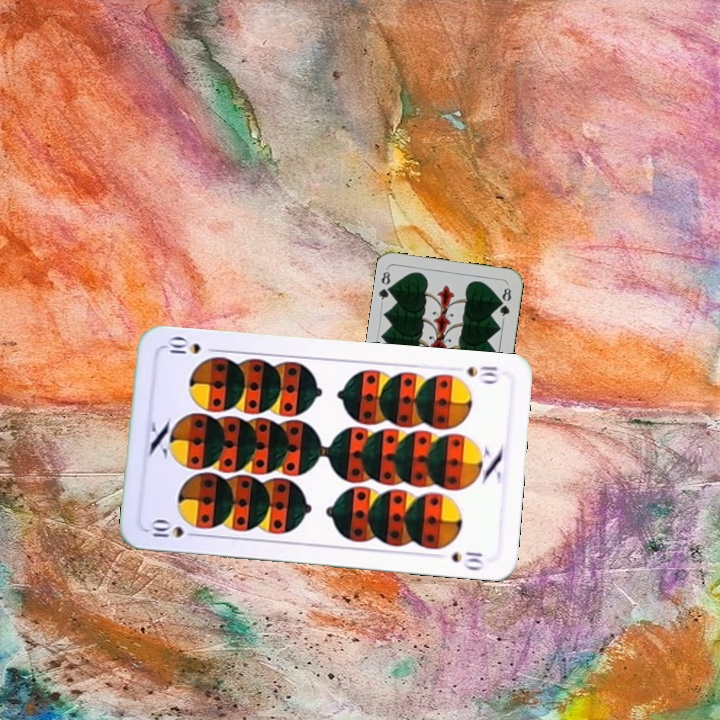G8: (375, 266, 397, 306)
S10: (144, 518, 203, 540), (463, 362, 501, 386)
